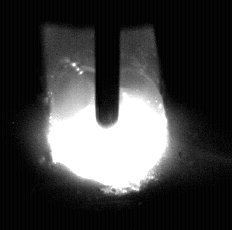arame: (95, 0, 122, 129)
poca: (46, 0, 171, 230)
